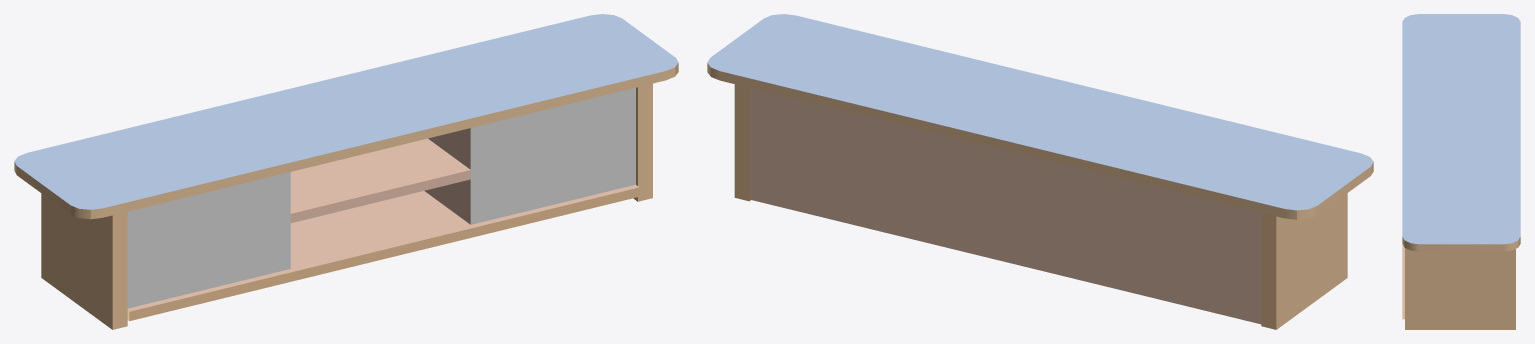
The model's file is table-television.fbx.
3 renders of one model, left to right at view 1: azimuth 30°, elevation 25°; view 2: azimuth 150°, elevation 25°; view 3: azimuth 270°, elevation 25°, orthographic. The views are drawn at different scales.
Parts seen in each view (by area): view 1: Table; view 2: Table; view 3: Table.
Boxes of the visible parts, left/top/right/bottom form: Table: left=14, top=14, right=678, bottom=329; Table: left=707, top=14, right=1373, bottom=329; Table: left=1402, top=14, right=1520, bottom=329.
Bounding box in the file's own units: 202 × 40 × 43.75.
Materials: 1 (1 with a texture image).
